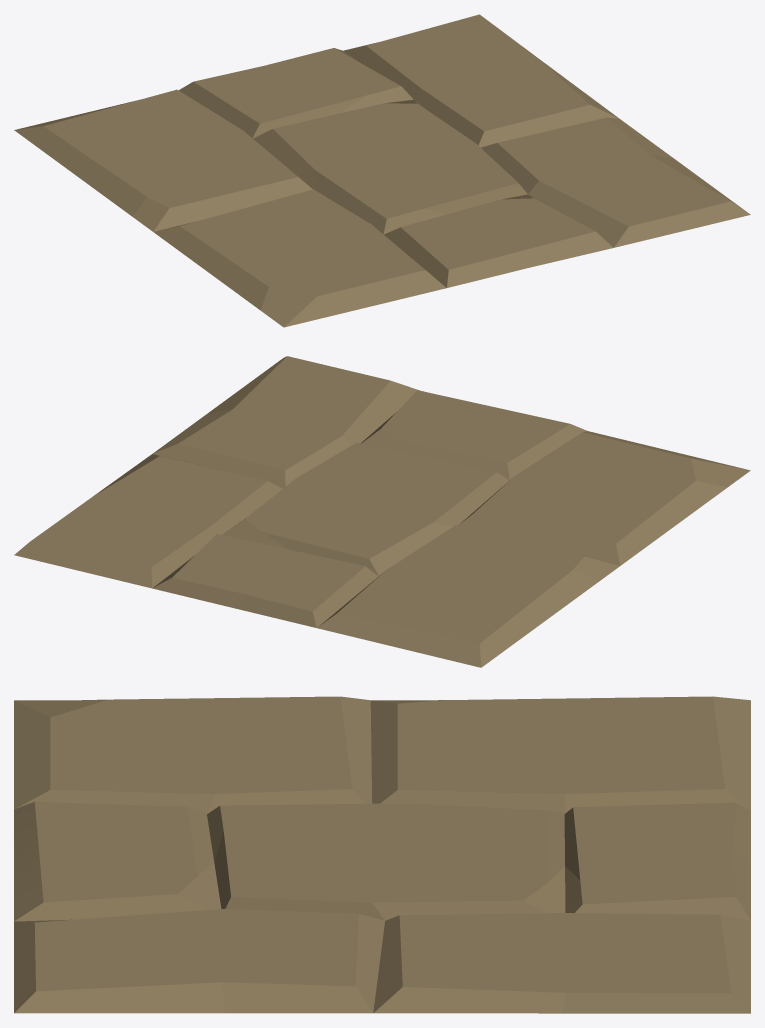
The model's file is Wall_Small_1_low.fbx.
3 renders of one model, top to bottom at view 1: azimuth 30°, elevation 25°; view 2: azimuth 150°, elevation 25°; view 3: azimuth 270°, elevation 25°, orthographic. The views are drawn at different scales.
Visible parts, largest first — view 1: Wall_Small_1_low; view 2: Wall_Small_1_low; view 3: Wall_Small_1_low.
Boxes of the visible parts, x1,y1,x2,y2 form: Wall_Small_1_low: [14, 14, 750, 327]; Wall_Small_1_low: [14, 356, 750, 667]; Wall_Small_1_low: [14, 696, 750, 1013].
Size of the model in its own units: 1 by 0.0238 by 1.
